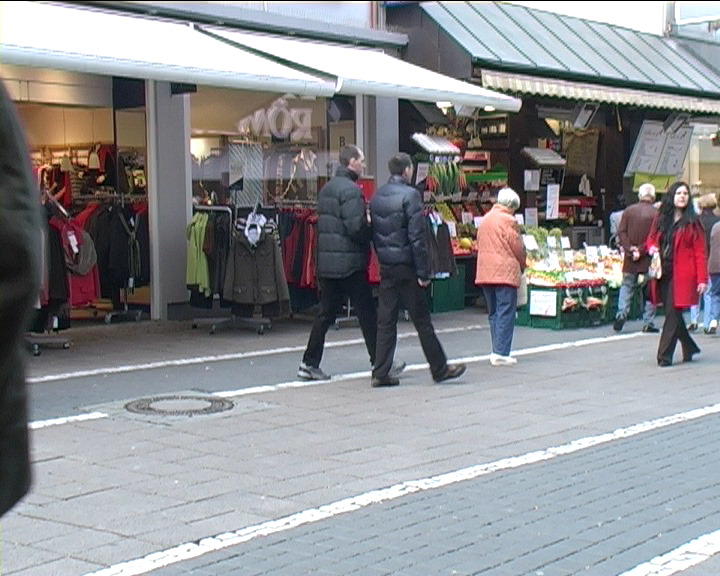deflection: (656, 179, 708, 234)
